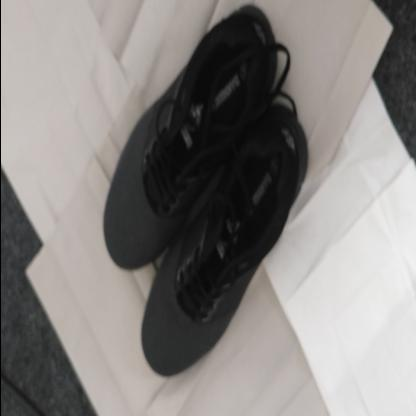safety-shoe: (101, 4, 308, 377)
